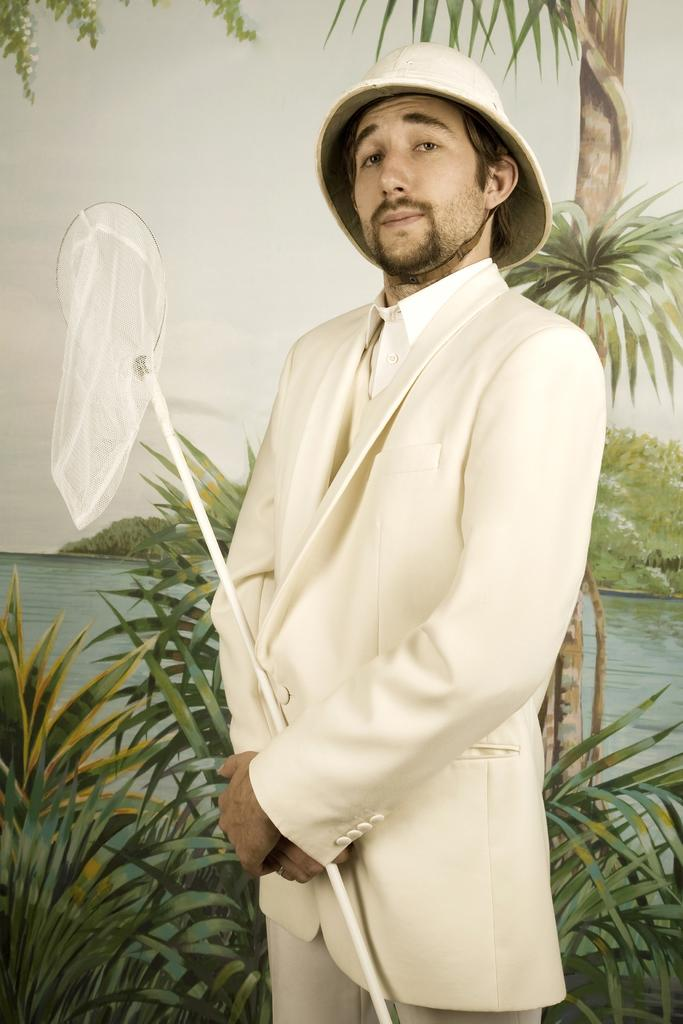Hat: (320, 36, 555, 268)
